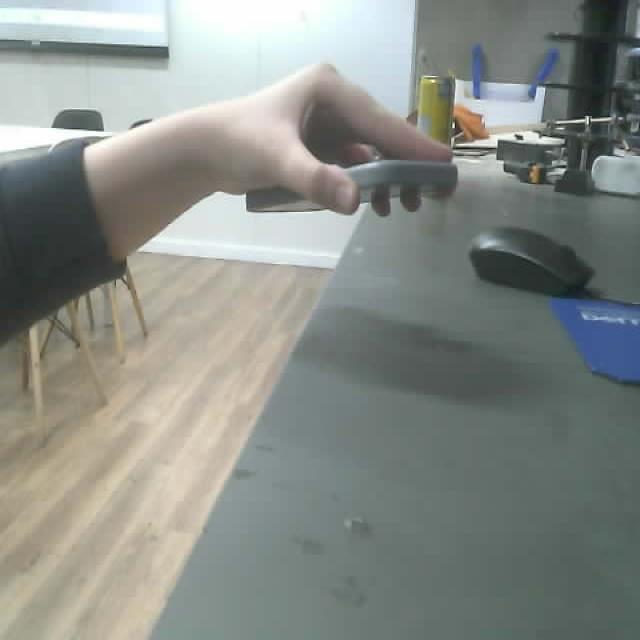phone: (245, 158, 459, 214)
